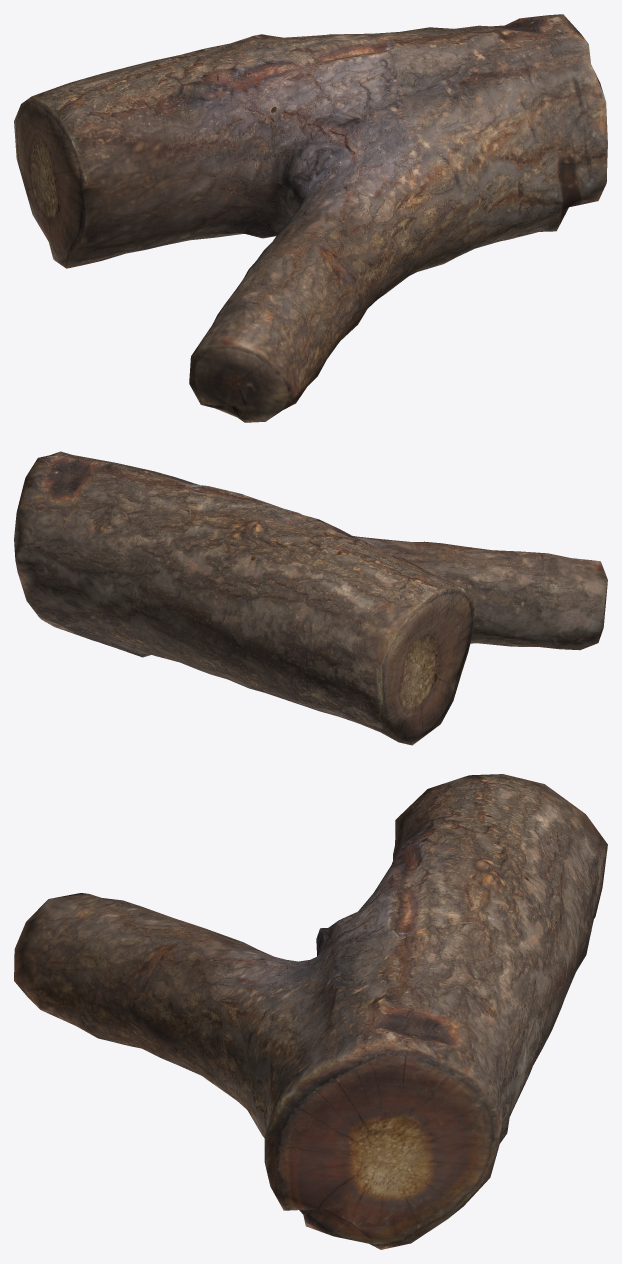
Rendered from log2.obj.
3 renders of one model, top to bottom at view 1: azimuth 30°, elevation 25°; view 2: azimuth 150°, elevation 25°; view 3: azimuth 270°, elevation 25°, orthographic. The views are drawn at different scales.
Parts seen in each view (by area): view 1: log2; view 2: log2; view 3: log2.
Boxes of the visible parts, x1=… form: log2: x1=14, y1=14, x2=607, y2=422; log2: x1=14, y1=451, x2=607, y2=745; log2: x1=14, y1=774, x2=607, y2=1249.
Bounding box in the file's own units: 1.06 × 0.4391 × 0.9158.
Materials: 1 (1 with a texture image).
